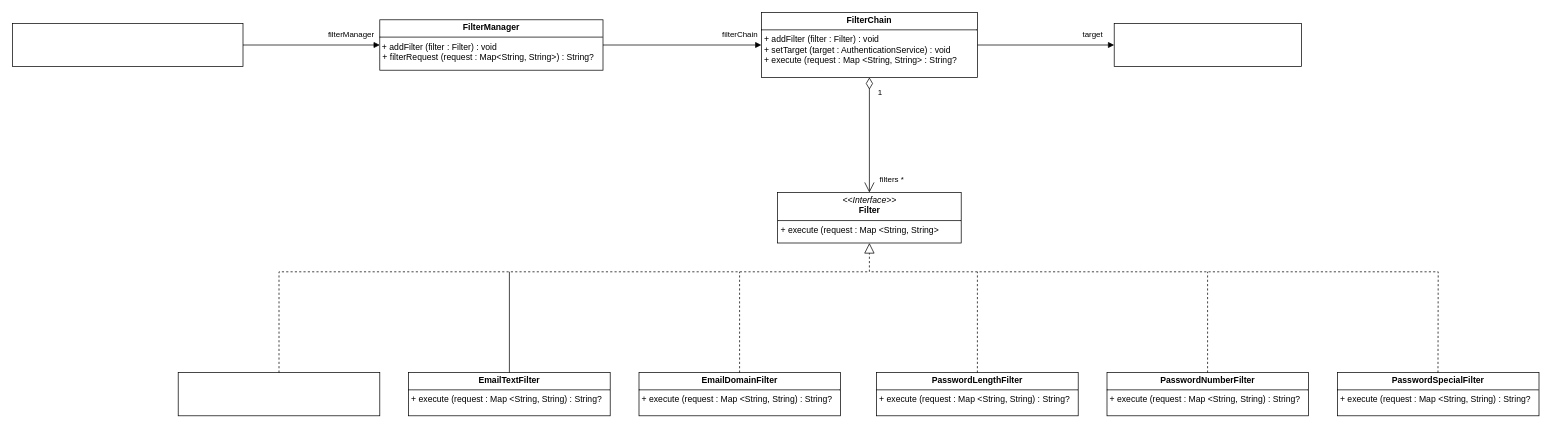
Some shapes in this 1552 by 428 pixel diagram are drawn without their labels. Here are the shapes that lost their labels. From the top down, the centre of each, then its label:
pixel 127 45: Cliente + sendRequest (request : Map<String, String>) : String?
pixel 1207 45: AuthenticationService + execute (request : Map <String, String>
pixel 278 394: DuplicateEmailFilter + execute (request : Map <String, String) : String?
